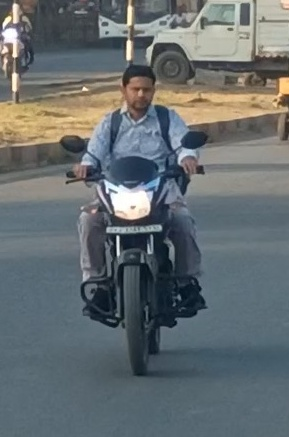BikeWithRider: (56, 61, 219, 379), (0, 2, 35, 82)
NoHelmet: (118, 63, 158, 116)
